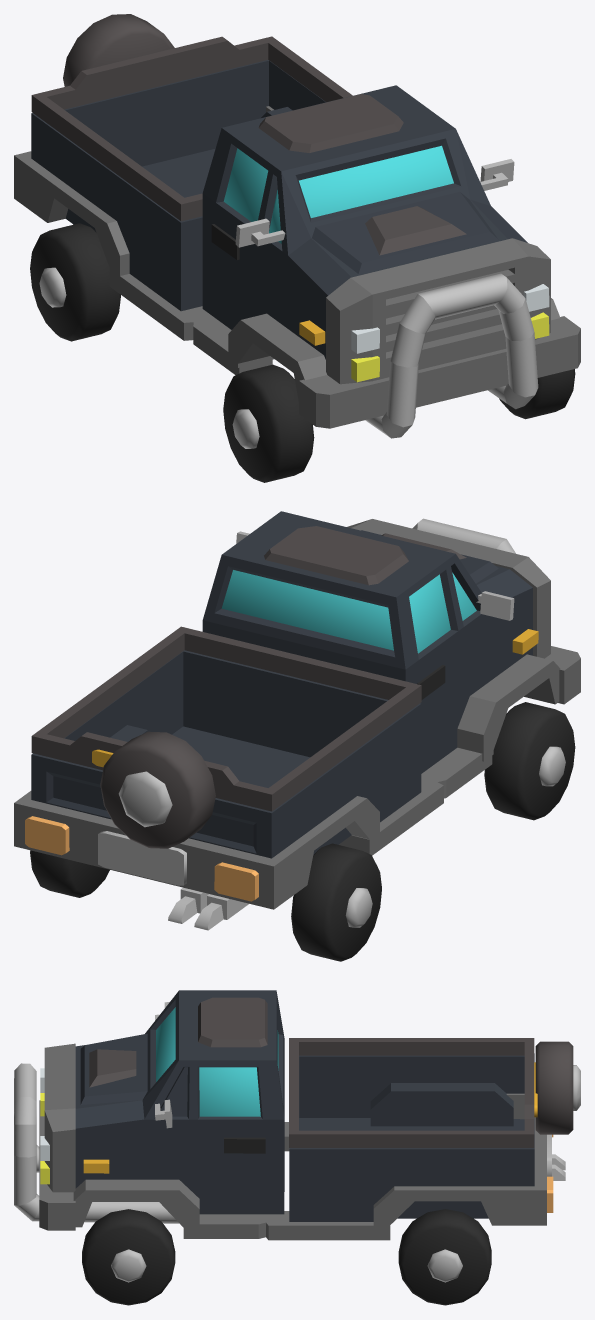
File: PlayerCar_05_Pickup_Evil.fbx
3 views of the same model, one above another, from view 1: azimuth 30°, elevation 25°; view 2: azimuth 150°, elevation 25°; view 3: azimuth 270°, elevation 25° (orthographic). The views are drawn at different scales.
Visible parts, largest first — view 1: Cabine, Radiator_Cant_Side, Wheels, Cant, Pipe, Windows, Bonnet, Luke, Wheel_Rear, Bonnet_Top, Mirrors, Light_Front_Top (+1 smaller); view 2: Cabine, Radiator_Cant_Side, Wheels, Cant, Wheel_Rear, Windows, Luke, Sign_Back, Light_Back, Exhaust, Pipe, Mirrors (+1 smaller); view 3: Cabine, Radiator_Cant_Side, Wheels, Cant, Pipe, Windows, Wheel_Rear, Luke, Bonnet, Bonnet_Top, Handle.
Part boxes in pixels (x1,y1,x2,y2): Cabine: [31, 60, 527, 359]; Radiator_Cant_Side: [14, 106, 580, 428]; Wheels: [30, 223, 575, 482]; Cant: [31, 36, 352, 221]; Pipe: [365, 273, 538, 438]; Windows: [223, 145, 453, 243]; Bonnet: [312, 191, 498, 273]; Luke: [258, 94, 403, 152]; Wheel_Rear: [63, 14, 174, 86]; Bonnet_Top: [365, 206, 466, 255]; Mirrors: [235, 159, 514, 247]; Light_Front_Top: [351, 284, 549, 353]; Cabine: [31, 511, 532, 858]; Radiator_Cant_Side: [14, 519, 580, 909]; Wheels: [30, 702, 575, 961]; Cant: [31, 626, 421, 811]; Wheel_Rear: [100, 731, 215, 848]; Windows: [221, 570, 476, 653]; Luke: [264, 526, 408, 585]; Sign_Back: [98, 831, 186, 885]; Light_Back: [25, 816, 258, 901]; Exhaust: [168, 887, 248, 930]; Pipe: [412, 518, 515, 553]; Mirrors: [236, 531, 514, 620]; Cabine: [75, 990, 534, 1221]; Radiator_Cant_Side: [39, 1043, 546, 1240]; Wheels: [82, 1209, 491, 1305]; Cant: [289, 1038, 534, 1147]; Pipe: [14, 1063, 179, 1223]; Windows: [156, 1007, 278, 1116]; Wheel_Rear: [535, 1041, 580, 1134]; Luke: [198, 997, 267, 1047]; Bonnet: [80, 1033, 147, 1104]; Bonnet_Top: [89, 1049, 136, 1087]; Handle: [224, 1137, 265, 1153].
Bounding box in the file's own units: 273 × 228 × 516.
